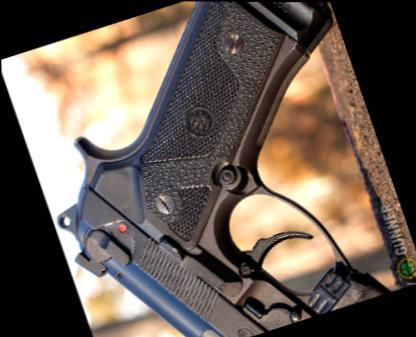pistol: (0, 0, 415, 335)
